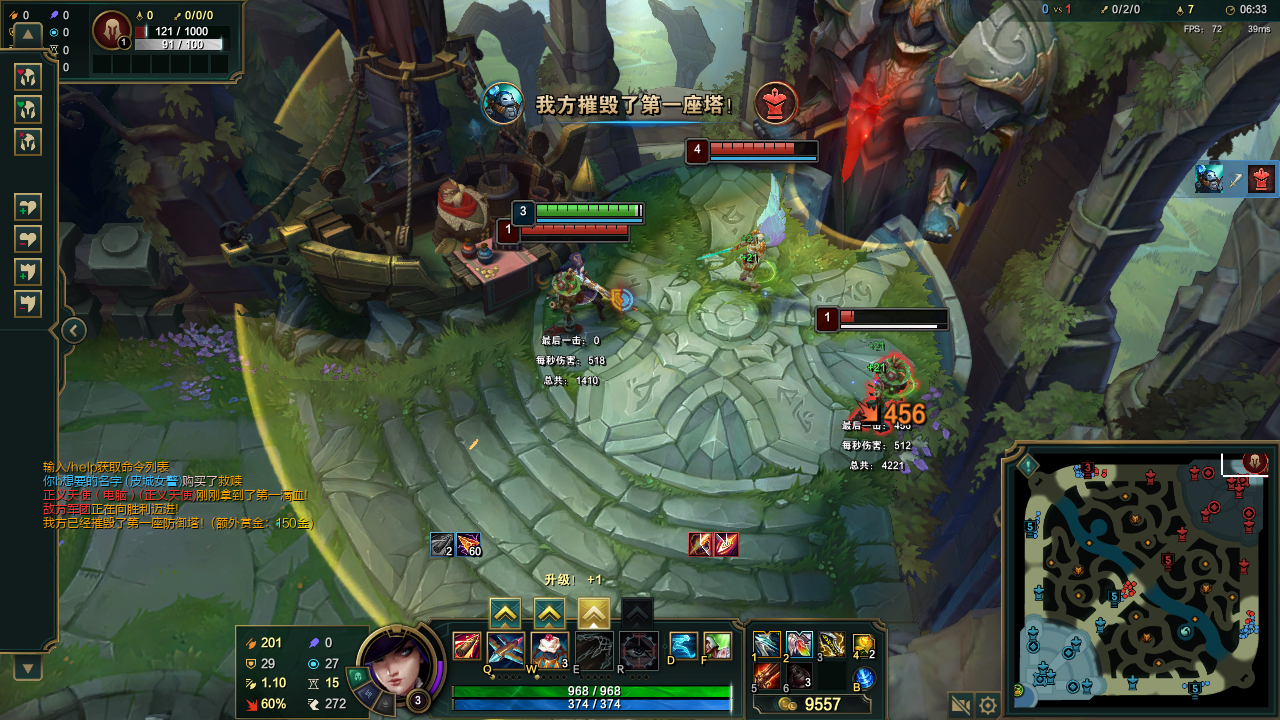DFYX: (839, 306, 962, 326), (706, 137, 827, 153), (518, 226, 638, 240)
